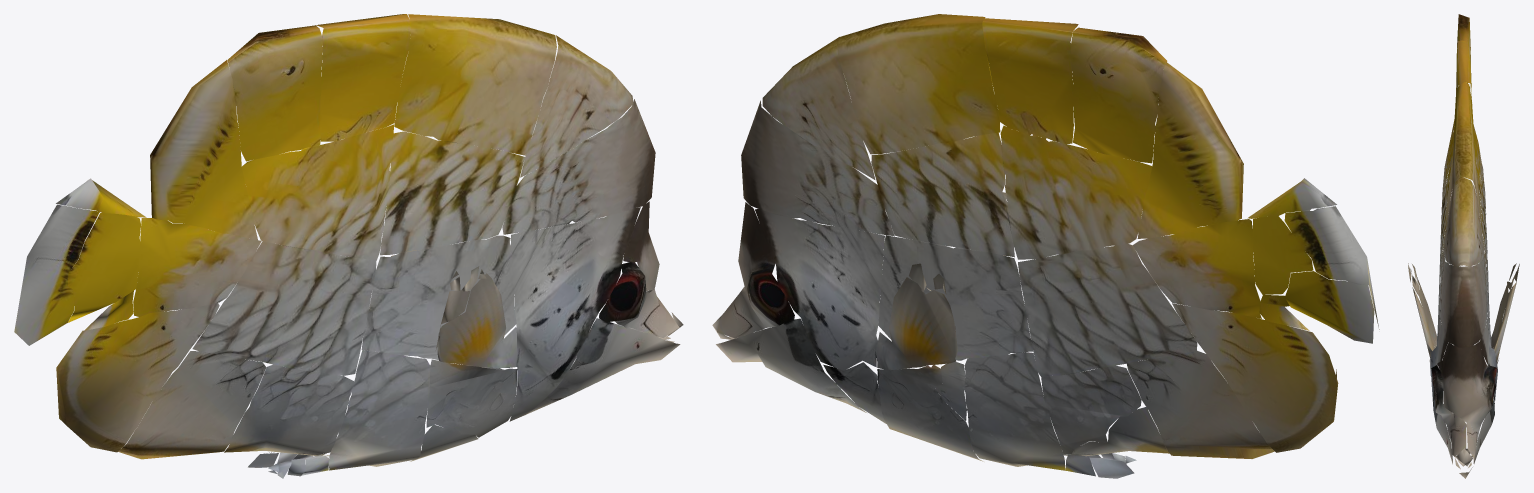
Rendered from trop_butterfly.glb.
3 renders of one model, left to right at view 1: azimuth 30°, elevation 25°; view 2: azimuth 150°, elevation 25°; view 3: azimuth 270°, elevation 25°, orthographic. The views are drawn at different scales.
Visible parts, largest first — view 1: tripo_node_59bc1408-9adc-4f8a-8599-61048811c8d2; view 2: tripo_node_59bc1408-9adc-4f8a-8599-61048811c8d2; view 3: tripo_node_59bc1408-9adc-4f8a-8599-61048811c8d2.
Part boxes in pixels (x1,y1,x2,y2): tripo_node_59bc1408-9adc-4f8a-8599-61048811c8d2: [14, 14, 683, 478]; tripo_node_59bc1408-9adc-4f8a-8599-61048811c8d2: [712, 14, 1379, 478]; tripo_node_59bc1408-9adc-4f8a-8599-61048811c8d2: [1408, 14, 1519, 478].
Bounding box in the file's own units: 1.01 × 0.6674 × 0.1956.
Materials: 1 (1 with a texture image).
